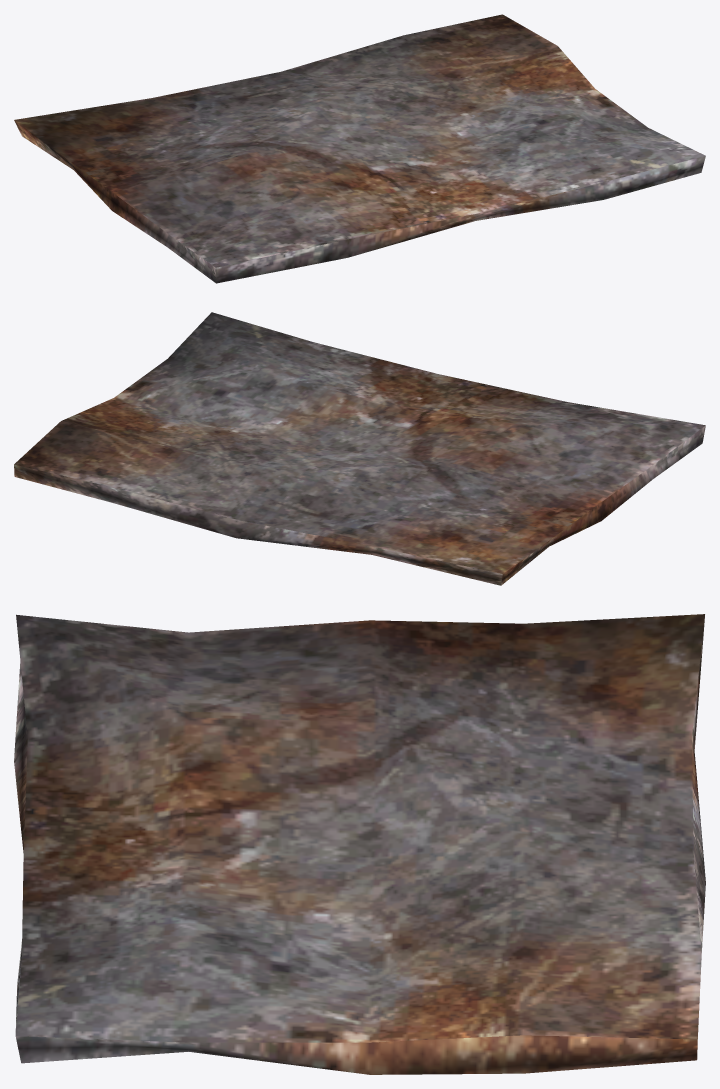
File: sheet_metal03.dae
The picture shows the model from 3 angles, top to bottom: view 1: azimuth 30°, elevation 25°; view 2: azimuth 150°, elevation 25°; view 3: azimuth 270°, elevation 25°; orthographic projection. The views are drawn at different scales.
Visible parts, largest first — view 1: pCube1; view 2: pCube1; view 3: pCube1.
Boxes of the visible parts, x1,y1,x2,y2 form: pCube1: (14, 14, 705, 283); pCube1: (14, 312, 705, 585); pCube1: (14, 614, 705, 1074).
Size of the model in its own units: 0.5386 by 0.0381 by 0.3843.
